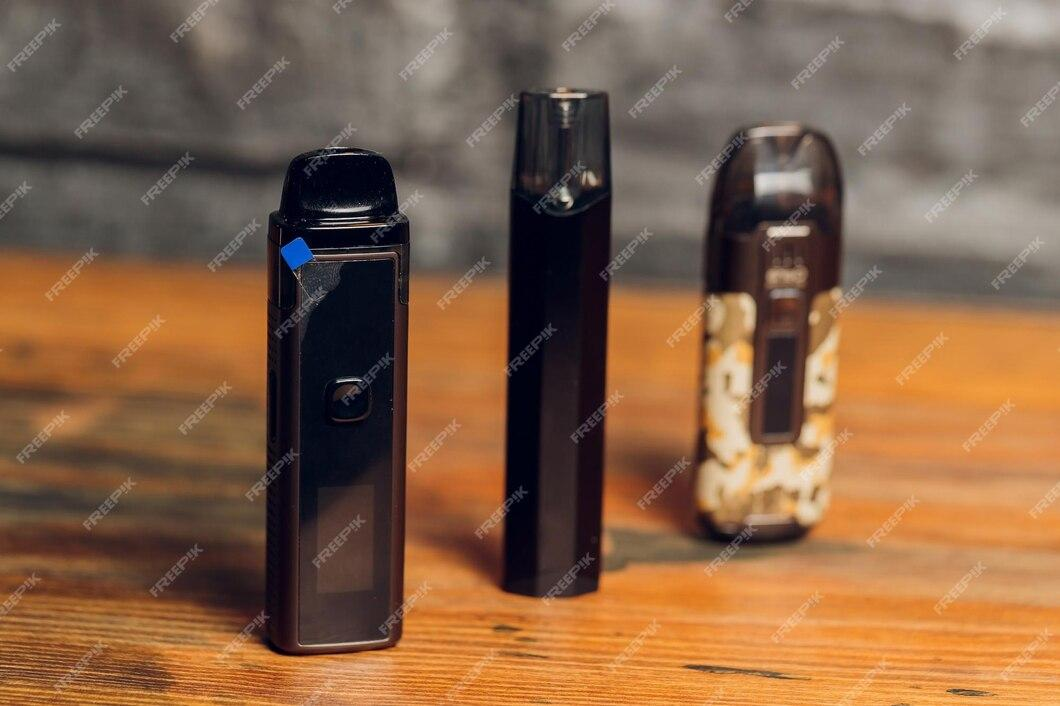Vape: (257, 147, 409, 653), (692, 122, 844, 537), (501, 88, 611, 596)
